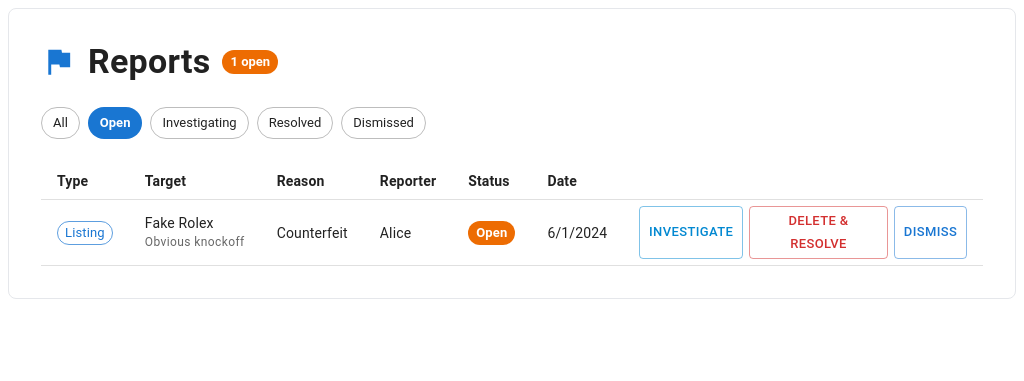
Test: ReportsPage › shows an error alert when investigate fails
Expected: the text "Fake Rolex" is shown, [145, 215, 214, 231]
Click the button "Investigate". click: {"x": 691, "y": 233}
box: [639, 206, 743, 260]
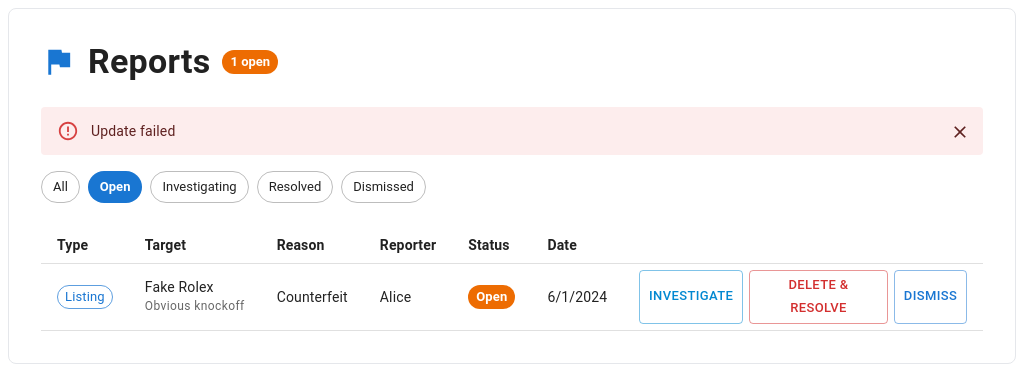
Result: the text "Update failed" is shown at [91, 123, 176, 139]
